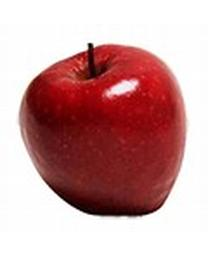apple: (17, 43, 186, 215)
